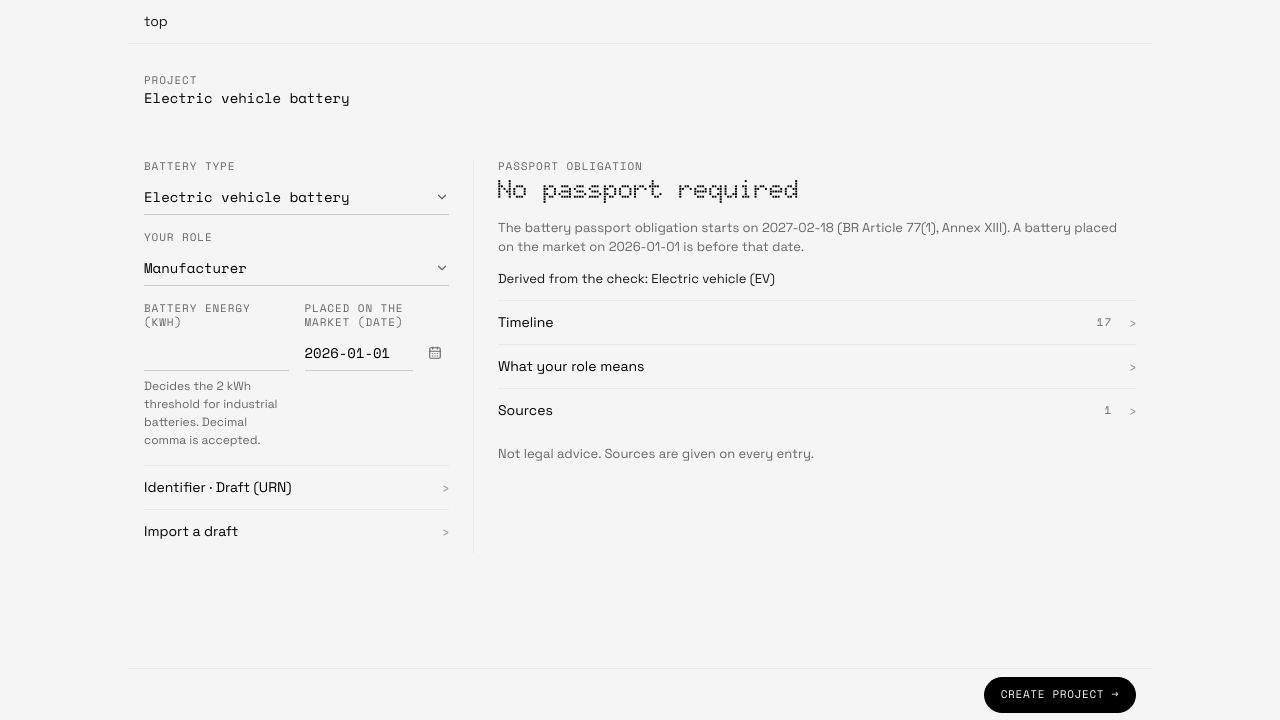
it: ProjectView › invalid replacement 2027-0 clears the previous obligation and blocks Continue
Step 1. Replace the text in the field with test id "placed-on-market" with "2027-0" → (359, 353), box left=304, top=335, right=413, bottom=371
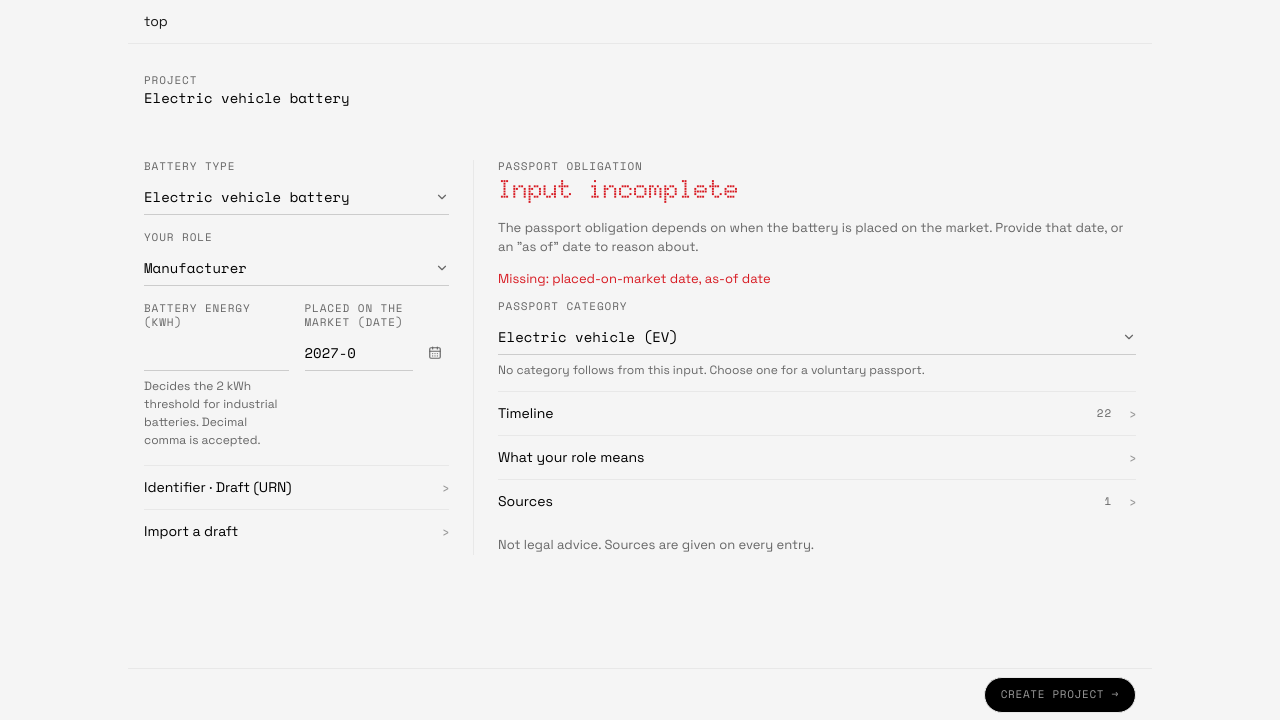
Now the button with test id "project-continue" is disabled, box left=984, top=676, right=1136, bottom=712
Now the text with test id "obligation-reason" no longer shows "2026-01-01"
Step 2. Replace the text in the field with test id "placed-on-market" with "2027-03-01" → (359, 353), box left=304, top=335, right=413, bottom=371
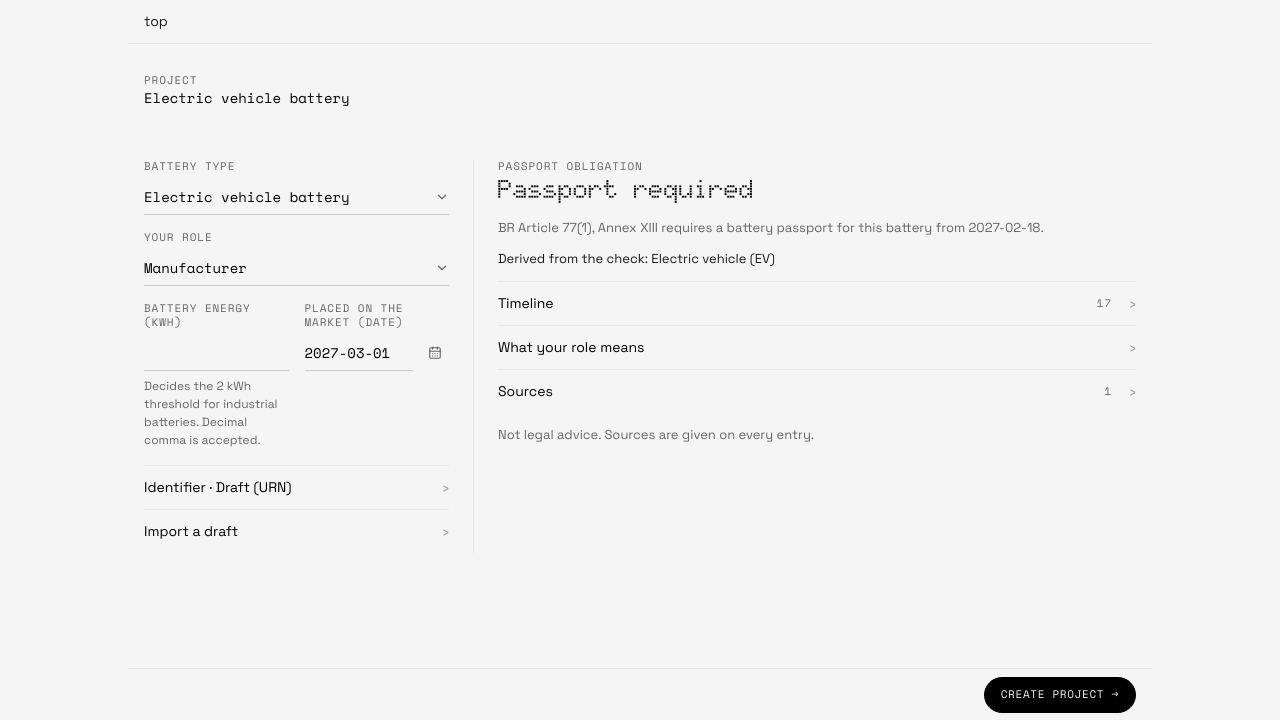
Now the button with test id "project-continue" is enabled, box left=984, top=676, right=1136, bottom=712
